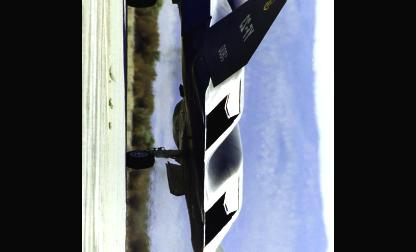US2: (125, 0, 308, 251)
